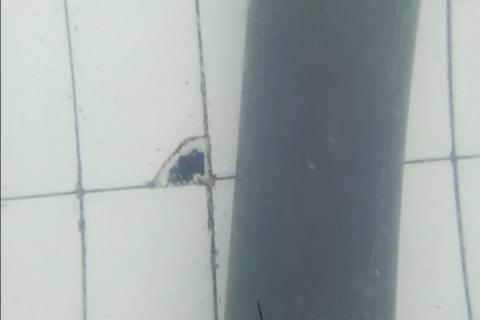keretakan: (255, 298, 266, 320)
